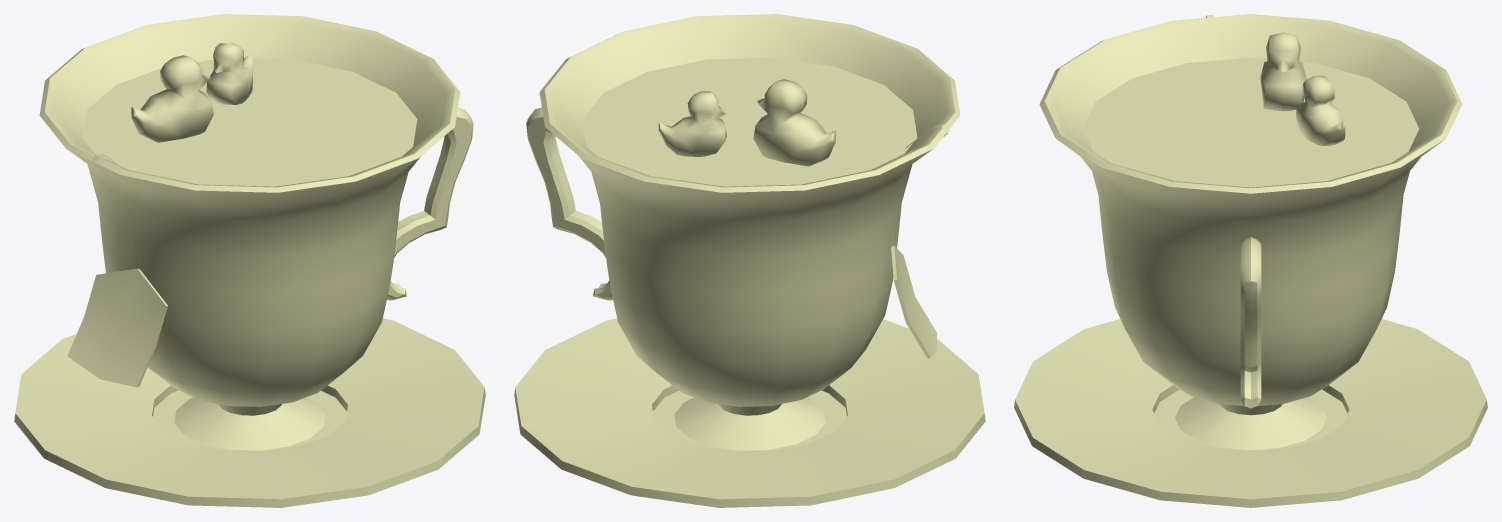
File: PROPS_GOODS_TEA_MODEL_grp.fbx
3 views of the same model, side by side, from view 1: azimuth 30°, elevation 25°; view 2: azimuth 150°, elevation 25°; view 3: azimuth 270°, elevation 25° (orthographic).
Parts seen in each view (by area): view 1: PROPS_GOODS_TEACUP_MODEL, PROPS_GOODS_TEAPLATE_MODEL, PROPS_GOODS_TEA_MODEL; view 2: PROPS_GOODS_TEACUP_MODEL, PROPS_GOODS_TEAPLATE_MODEL, PROPS_GOODS_TEA_MODEL; view 3: PROPS_GOODS_TEACUP_MODEL, PROPS_GOODS_TEAPLATE_MODEL, PROPS_GOODS_TEA_MODEL.
Part boxes in pixels (<box>): PROPS_GOODS_TEACUP_MODEL: <box>39,14,473,450</box>; PROPS_GOODS_TEAPLATE_MODEL: <box>14,318,485,507</box>; PROPS_GOODS_TEA_MODEL: <box>67,43,417,387</box>; PROPS_GOODS_TEACUP_MODEL: <box>526,14,960,450</box>; PROPS_GOODS_TEAPLATE_MODEL: <box>514,318,985,507</box>; PROPS_GOODS_TEA_MODEL: <box>582,57,950,358</box>; PROPS_GOODS_TEACUP_MODEL: <box>1039,14,1462,449</box>; PROPS_GOODS_TEAPLATE_MODEL: <box>1014,319,1487,507</box>; PROPS_GOODS_TEA_MODEL: <box>1083,14,1418,187</box>.
Bounding box in the file's own units: 11.03 × 9.07 × 10.61.
